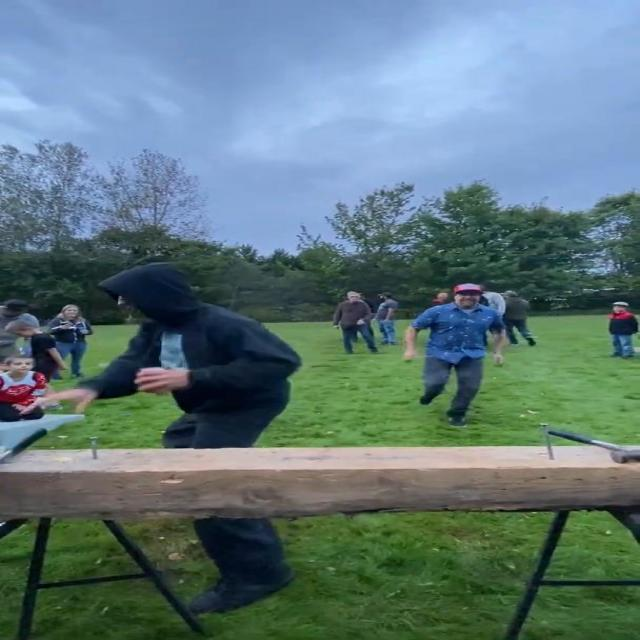hammer: (547, 428, 640, 464)
